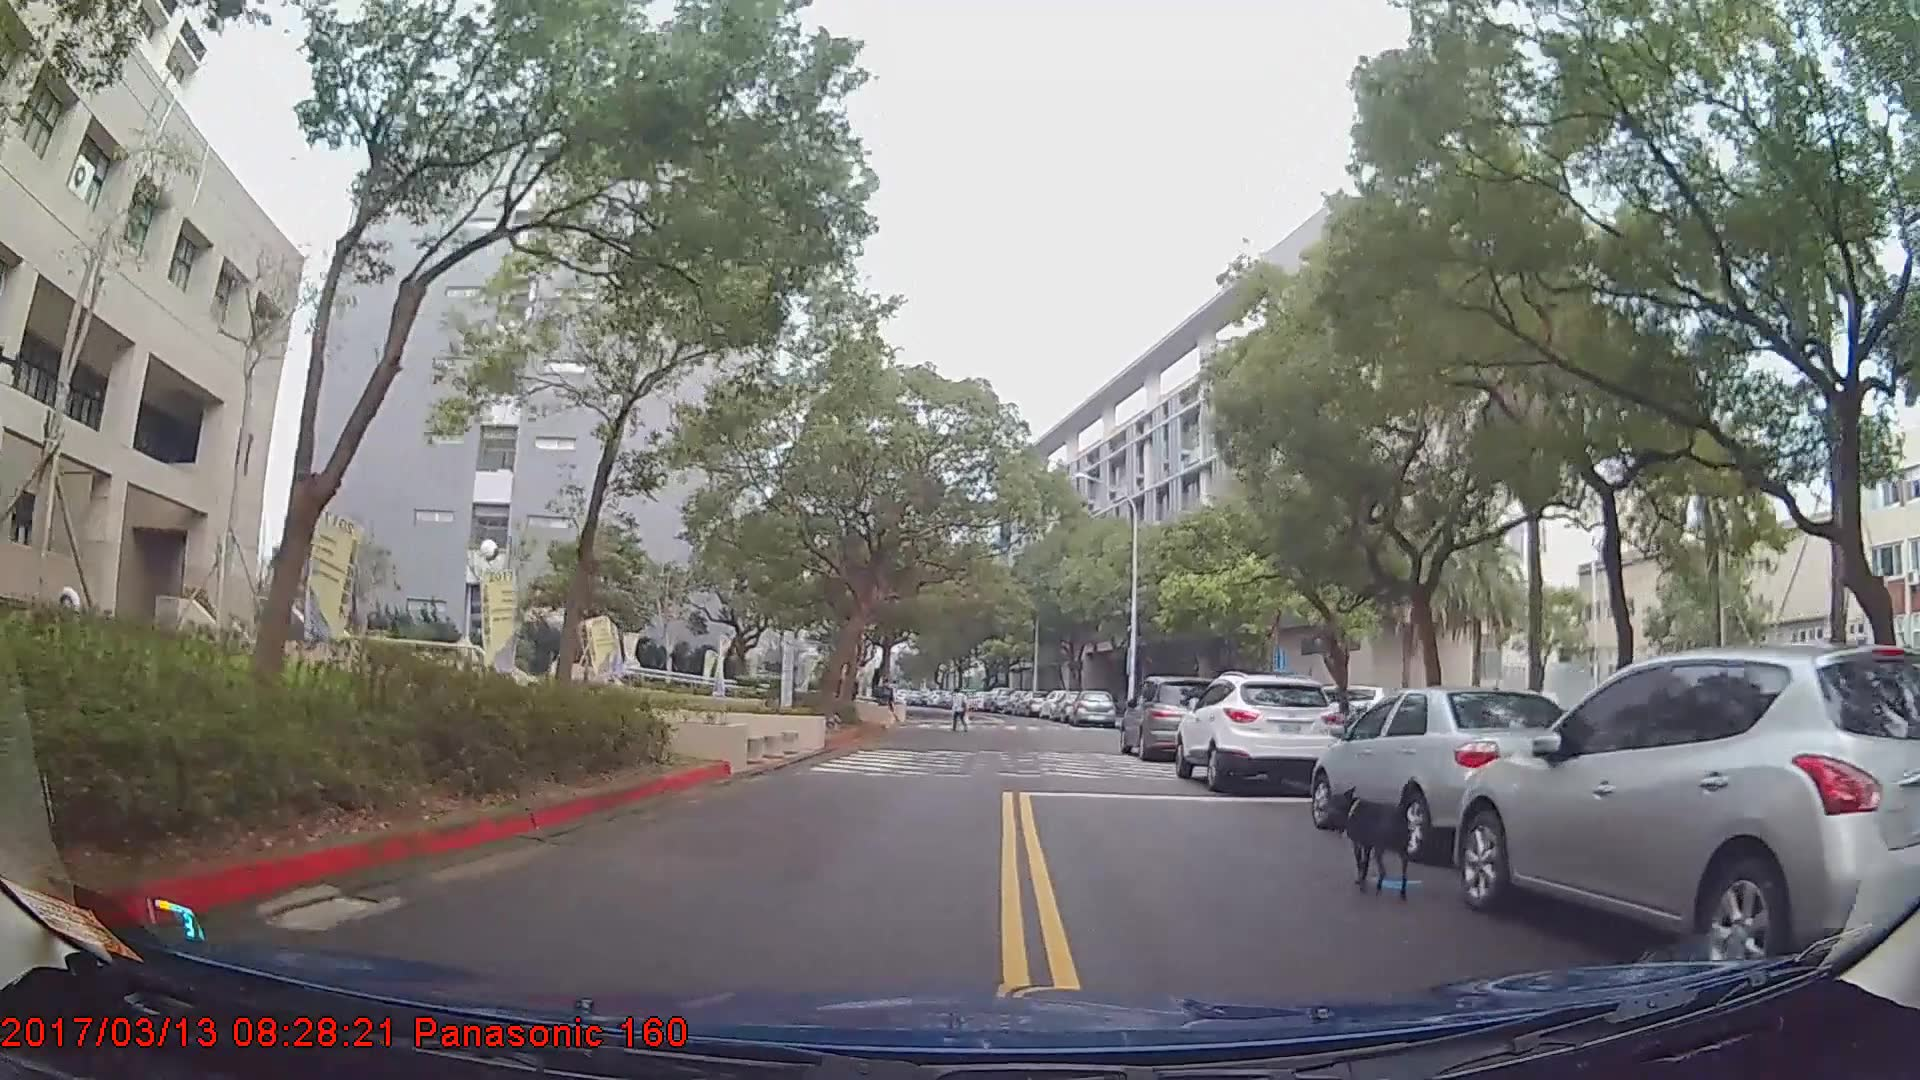pedestrian: (949, 688, 973, 735)
vehicle: (1452, 639, 1920, 997), (1314, 684, 1601, 859), (1173, 669, 1340, 790), (1117, 672, 1234, 756), (1068, 685, 1116, 727), (982, 686, 1012, 712)
